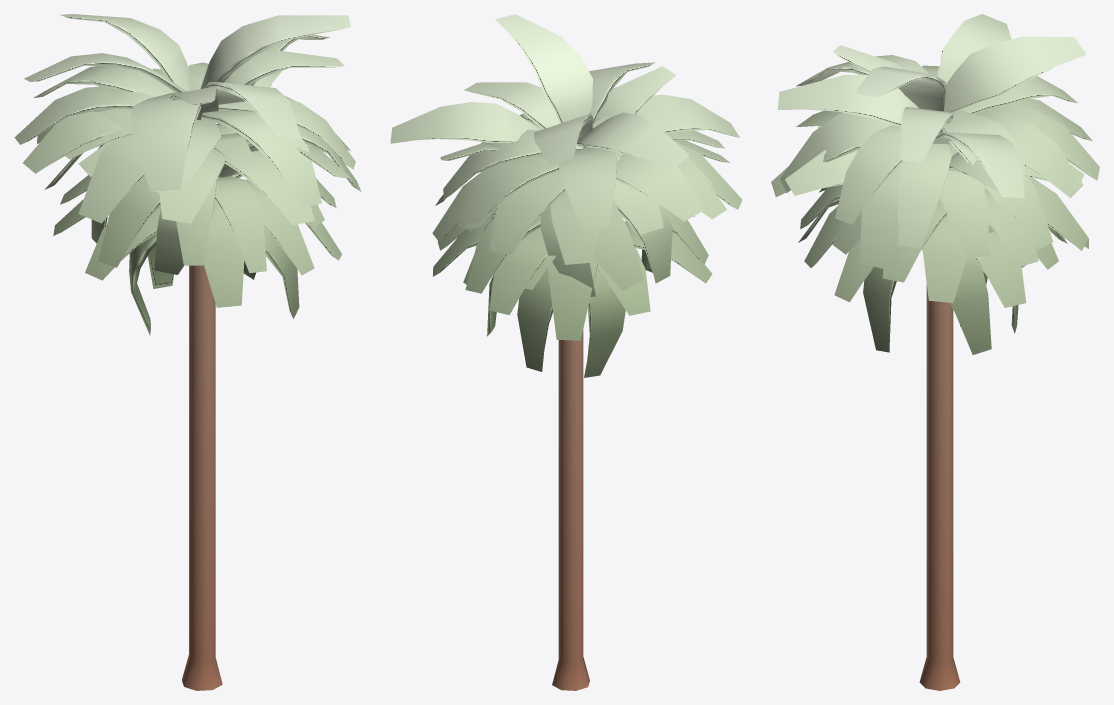
Rendered from WE01_Kinship_PalmTree.fbx.
3 views of the same model, side by side, from view 1: azimuth 30°, elevation 25°; view 2: azimuth 150°, elevation 25°; view 3: azimuth 270°, elevation 25° (orthographic). The views are drawn at different scales.
Parts seen in each view (by area): view 1: PalmTree; view 2: PalmTree; view 3: PalmTree.
Part boxes in pixels (x1,y1,x2,y2): PalmTree: (14, 14, 361, 690); PalmTree: (390, 14, 742, 690); PalmTree: (771, 14, 1099, 690).
Bounding box in the file's own units: 2.75 × 5.32 × 2.48.
